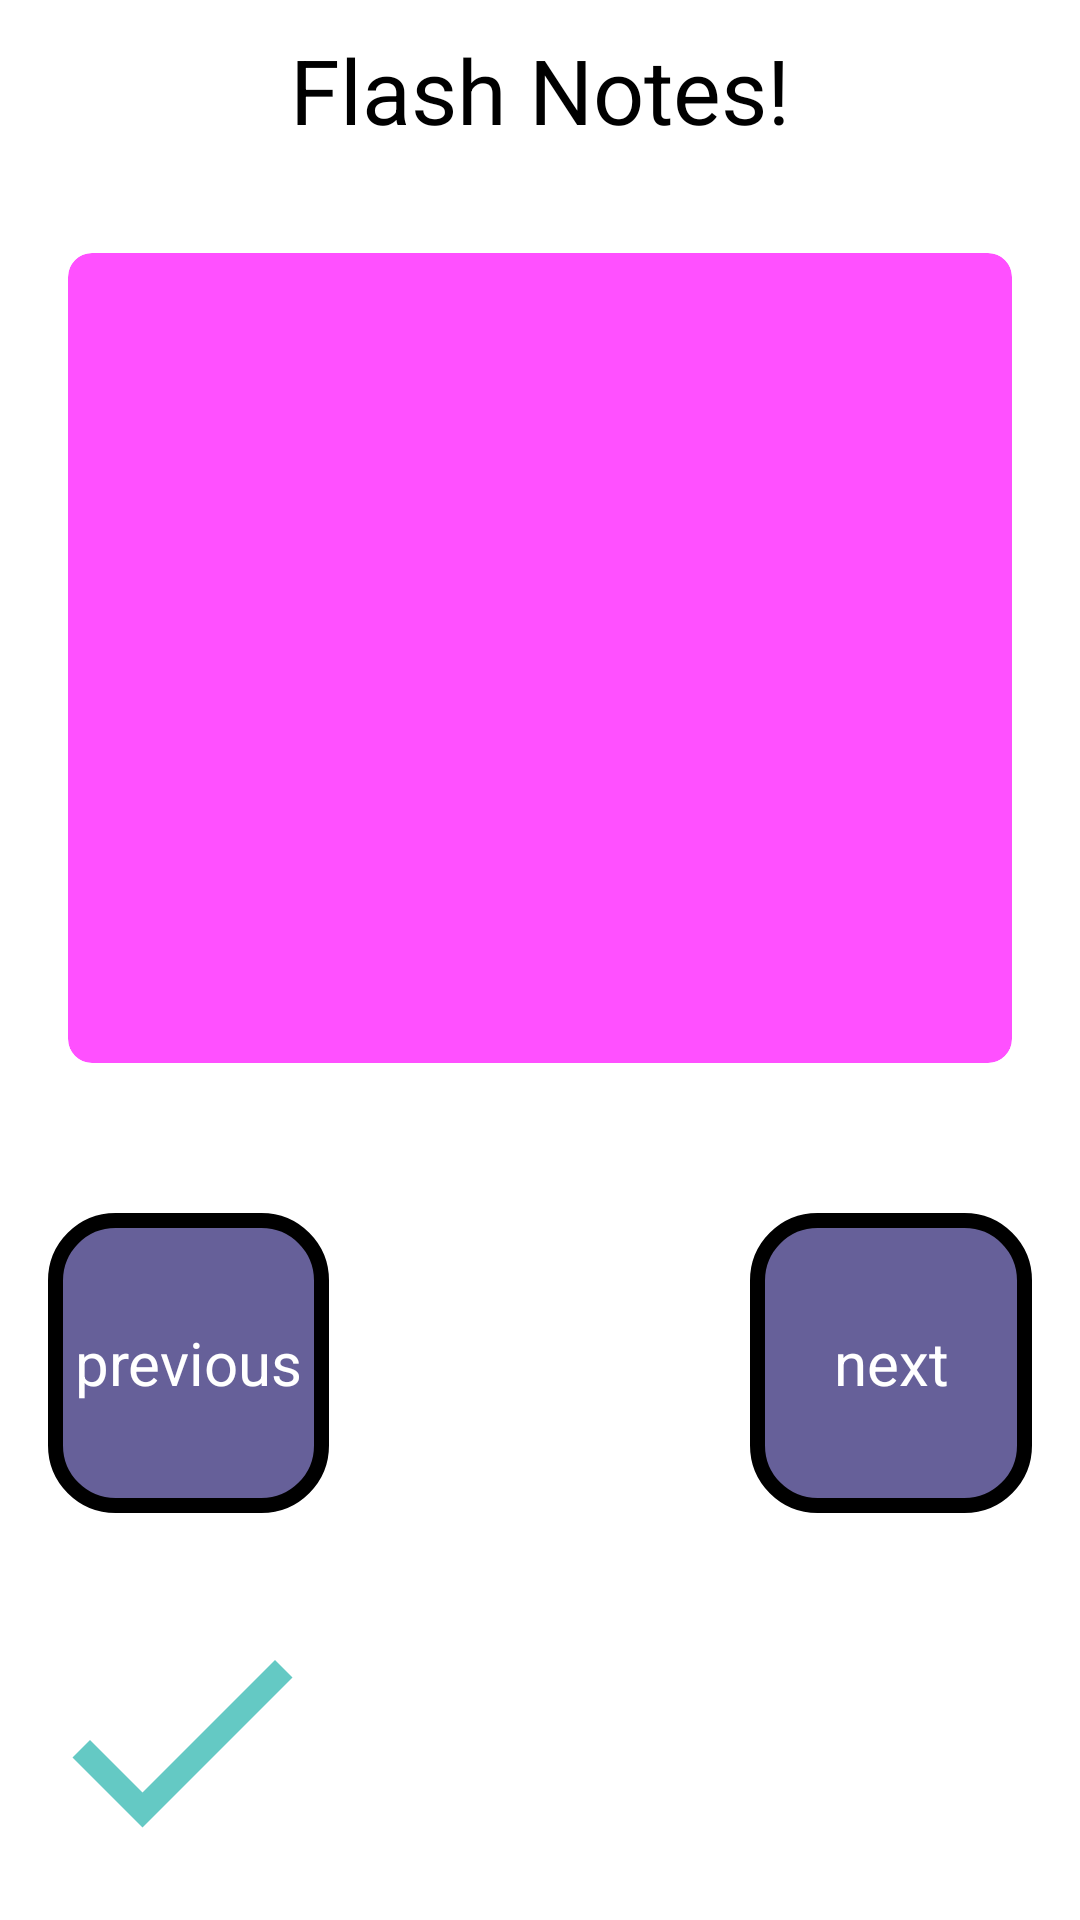

Named icons in this screenshot (1080px×1920px) and their bounding boxes, [x1=x1, y1=y1, x2=x2, y2=y2]:
done: [x1=72, y1=1660, x2=293, y2=1828]
